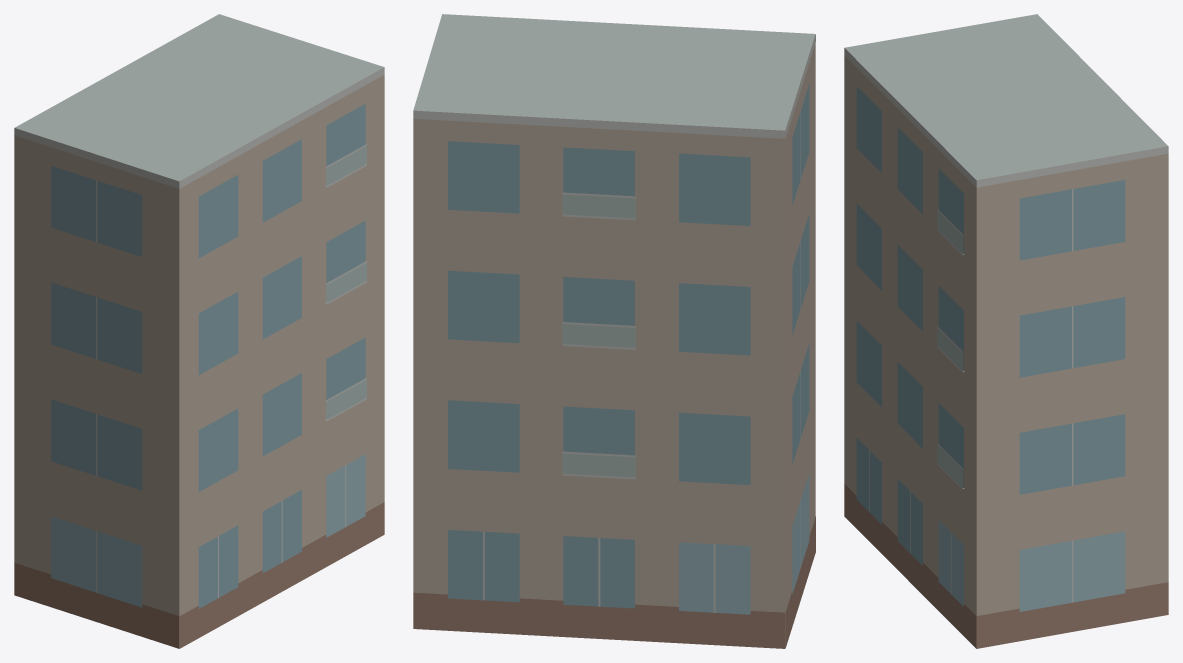
Rendered from survey-upis-32586260.glb.
3 views of the same model, side by side, from view 1: azimuth 30°, elevation 25°; view 2: azimuth 150°, elevation 25°; view 3: azimuth 270°, elevation 25° (orthographic). The views are drawn at different scales.
Visible parts, largest first — view 1: survey-upis-32586260.tmp; view 2: survey-upis-32586260.tmp; view 3: survey-upis-32586260.tmp.
Boxes of the visible parts, x1,y1,x2,y2 form: survey-upis-32586260.tmp: (14, 14, 384, 648); survey-upis-32586260.tmp: (413, 14, 815, 648); survey-upis-32586260.tmp: (844, 14, 1168, 648).
Bounding box in the file's own units: 11.8 × 15.5 × 9.73.
